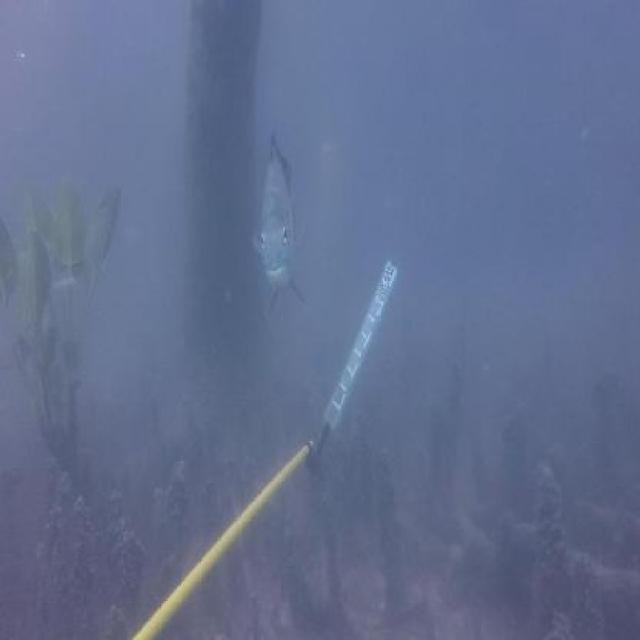acanthopagrus_palmaris: (254, 131, 309, 312)
